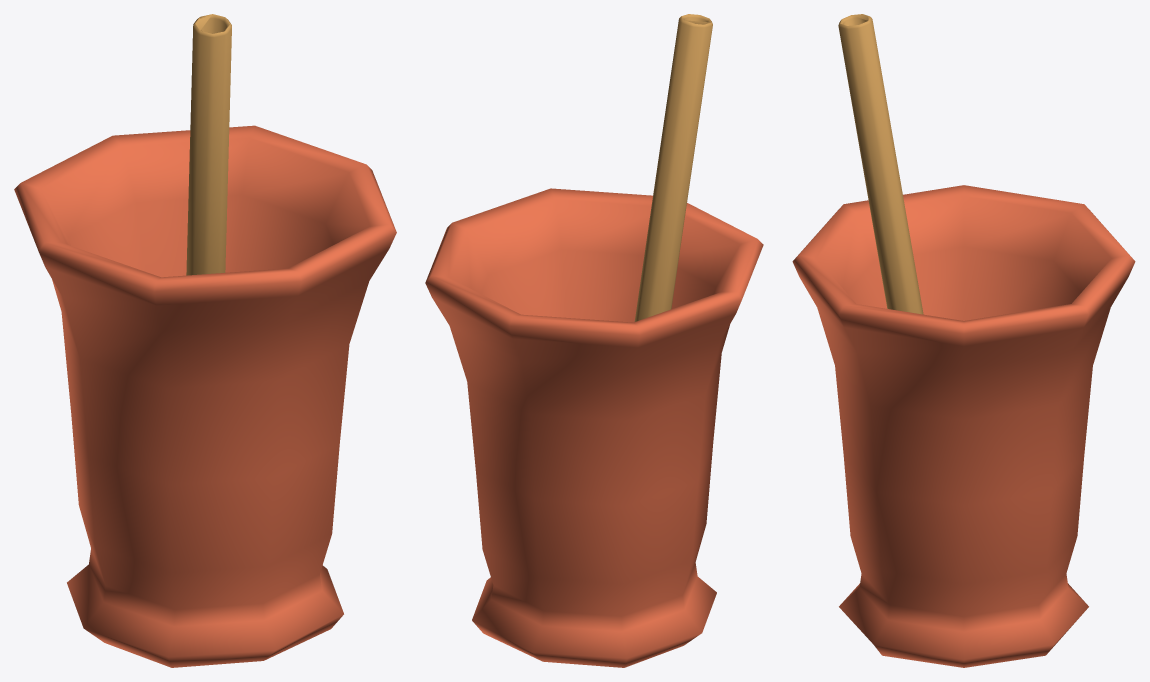
File: Asset_glassWithStraw.fbx
3 views of the same model, side by side, from view 1: azimuth 30°, elevation 25°; view 2: azimuth 150°, elevation 25°; view 3: azimuth 270°, elevation 25° (orthographic). The views are drawn at different scales.
Visible parts, largest first — view 1: Cylinder.031; view 2: Cylinder.031; view 3: Cylinder.031.
Part boxes in pixels (x1=…): Cylinder.031: x1=14, y1=14, x2=396, y2=667; Cylinder.031: x1=425, y1=14, x2=763, y2=667; Cylinder.031: x1=792, y1=14, x2=1135, y2=667.
Bounding box in the file's own units: 8.88 × 16.83 × 8.88.
